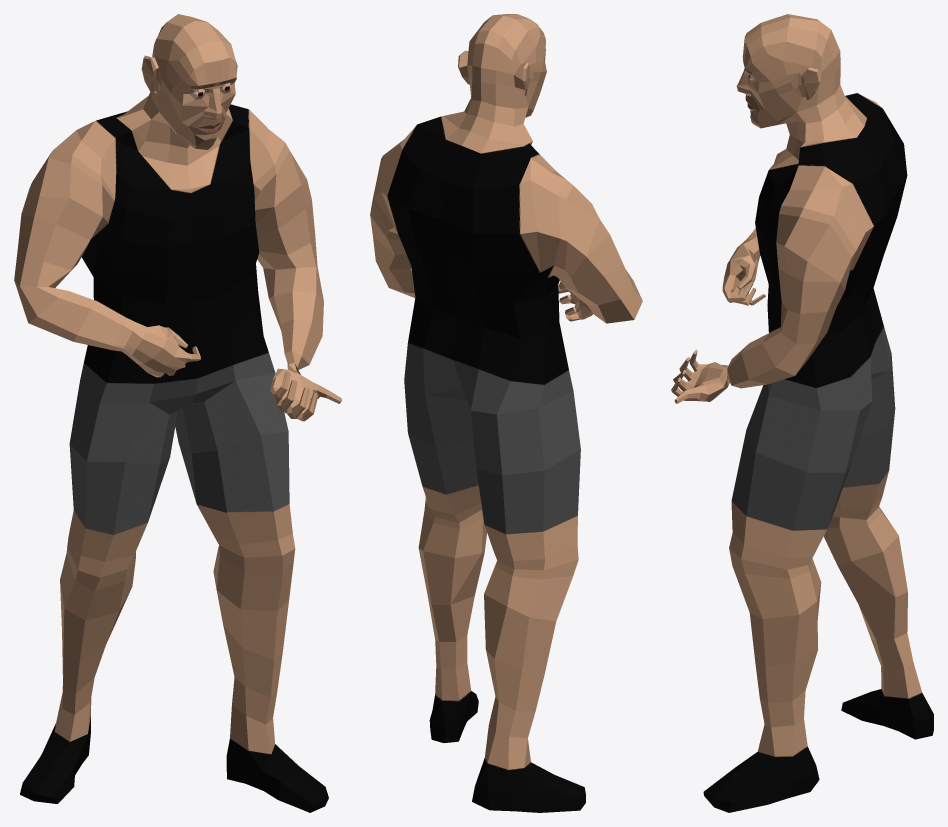
The model's file is PlayerIdle(101).obj.
The picture shows the model from 3 angles, left to right: view 1: azimuth 30°, elevation 25°; view 2: azimuth 150°, elevation 25°; view 3: azimuth 270°, elevation 25°; orthographic projection. The views are drawn at different scales.
Visible parts, largest first — view 1: Plane002; view 2: Plane002; view 3: Plane002.
Boxes of the visible parts, left/top/right/bottom form: Plane002: left=14, top=14, right=341, bottom=812; Plane002: left=370, top=14, right=642, bottom=812; Plane002: left=671, top=14, right=933, bottom=812.
Bounding box in the file's own units: 686 × 1804 × 575.
